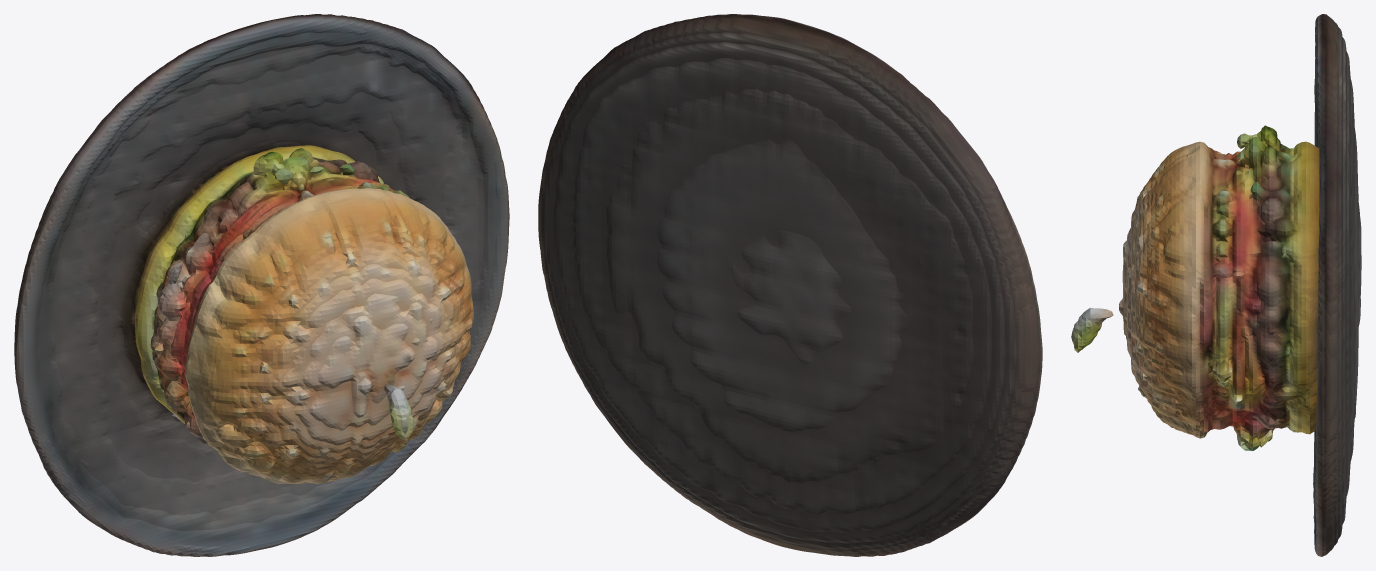
File: hamburger_fixed.glb
3 renders of one model, left to right at view 1: azimuth 30°, elevation 25°; view 2: azimuth 150°, elevation 25°; view 3: azimuth 270°, elevation 25°, orthographic. The views are drawn at different scales.
Visible parts, largest first — view 1: mesh.obj; view 2: mesh.obj; view 3: mesh.obj.
Part boxes in pixels (<box>): mesh.obj: <box>14,14,509,556</box>; mesh.obj: <box>538,14,1042,556</box>; mesh.obj: <box>1071,14,1361,556</box>.
Size of the model in its own units: 0.9887 by 1 by 0.5313.
